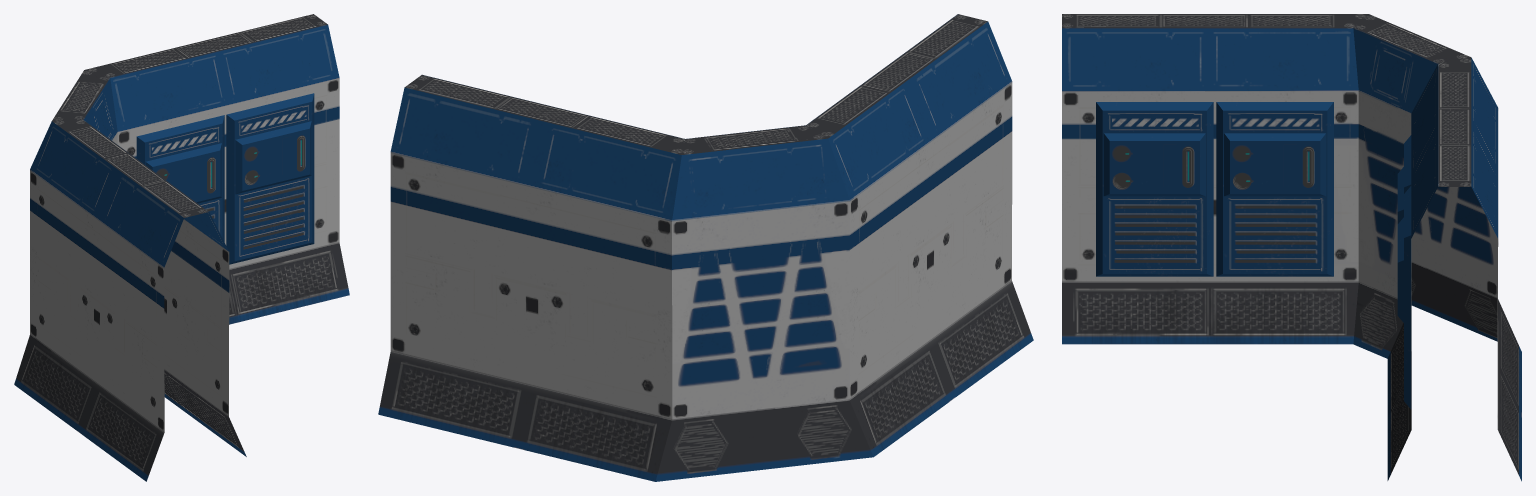
Rendered from Wall_angle_4_Sci_Fi.fbx.
3 renders of one model, left to right at view 1: azimuth 30°, elevation 25°; view 2: azimuth 150°, elevation 25°; view 3: azimuth 270°, elevation 25°, orthographic. The views are drawn at different scales.
Visible parts, largest first — view 1: Sci_Fi_wall_angle_4; view 2: Sci_Fi_wall_angle_4; view 3: Sci_Fi_wall_angle_4.
Part boxes in pixels (bbox=[...]): Sci_Fi_wall_angle_4: bbox=[14, 14, 349, 481]; Sci_Fi_wall_angle_4: bbox=[378, 14, 1033, 481]; Sci_Fi_wall_angle_4: bbox=[1062, 14, 1521, 481].
Size of the model in its own units: 558 by 395 by 558.
